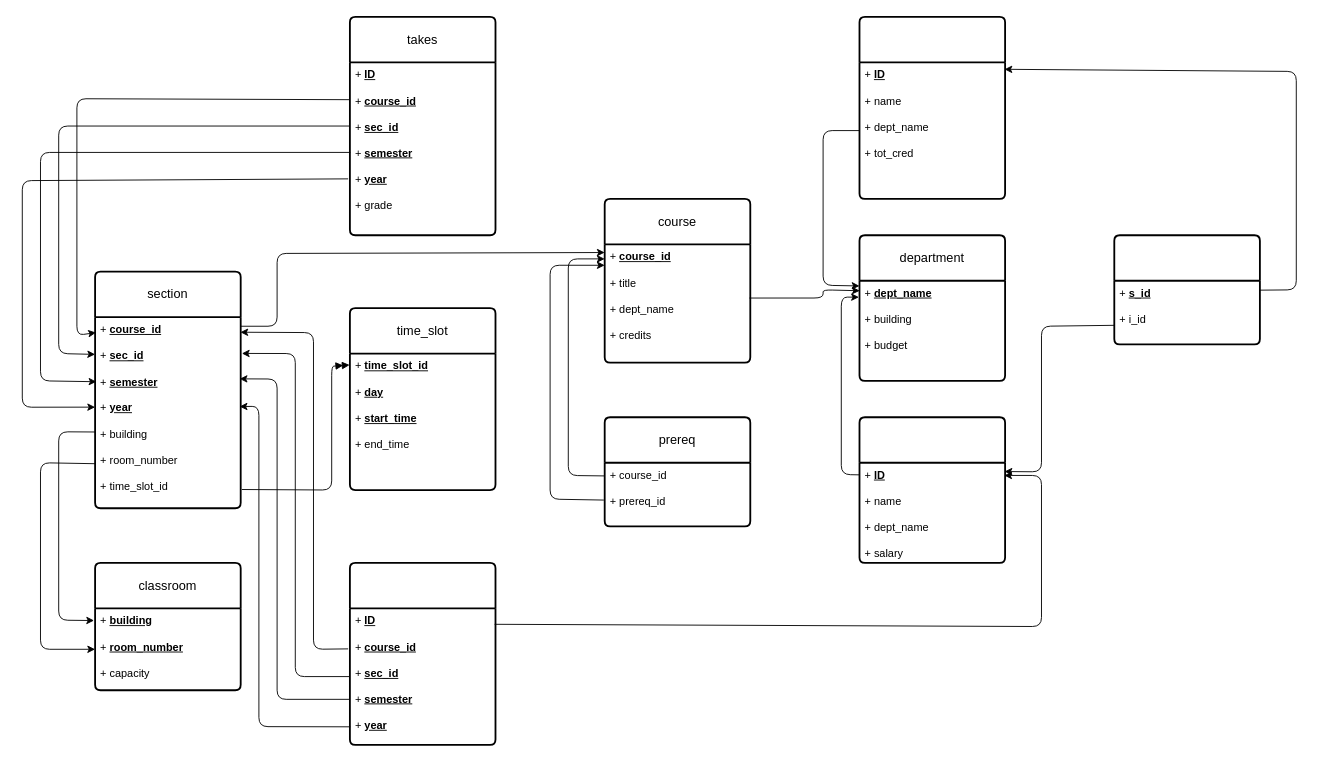
Image size: 1320x761. Some labels were removed from this diagram. Each missing label, with the box of its shape:
advisor: (1113, 234, 1260, 345)
instructor: (858, 416, 1006, 563)
student: (858, 15, 1006, 199)
teaches: (349, 561, 496, 745)
